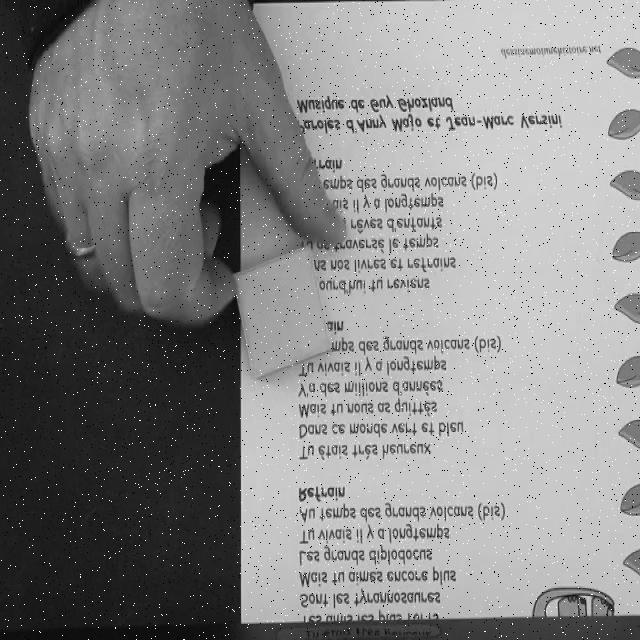square: (231, 246, 332, 380)
